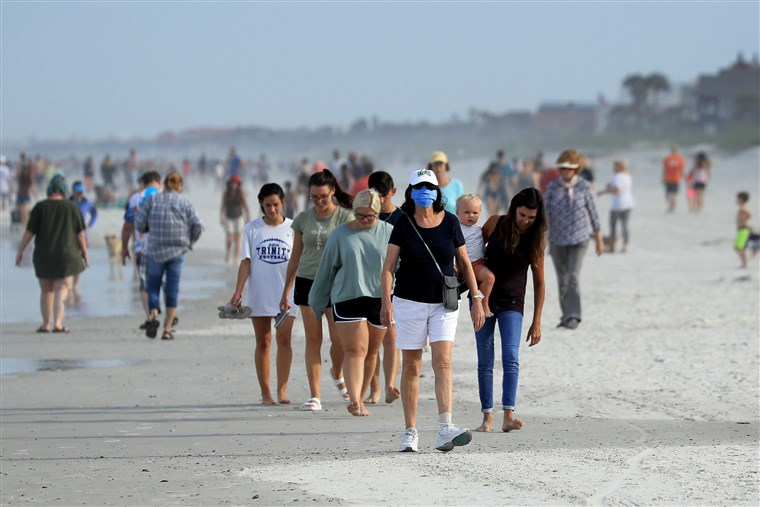with_mask: (406, 177, 441, 210)
without_mask: (512, 205, 542, 233), (308, 183, 334, 210), (352, 204, 377, 228), (460, 202, 482, 224), (263, 197, 282, 219)
